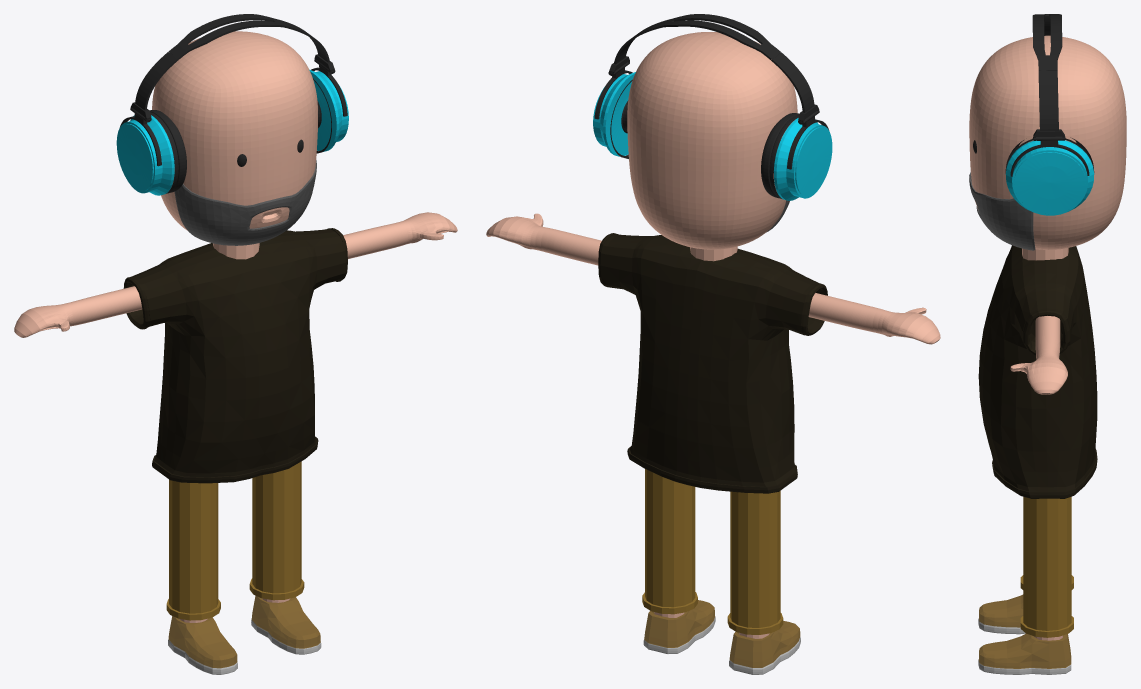
The model's file is AdilTpose.fbx.
The picture shows the model from 3 angles, left to right: view 1: azimuth 30°, elevation 25°; view 2: azimuth 150°, elevation 25°; view 3: azimuth 270°, elevation 25°; orthographic projection. The views are drawn at different scales.
Parts seen in each view (by area): view 1: Adil_1; view 2: Adil_1; view 3: Adil_1.
Boxes of the visible parts, bbox=[...] form: Adil_1: bbox=[14, 14, 457, 674]; Adil_1: bbox=[486, 14, 940, 674]; Adil_1: bbox=[969, 14, 1126, 674].
Size of the model in its own units: 38.94 by 52.3 by 12.08.
